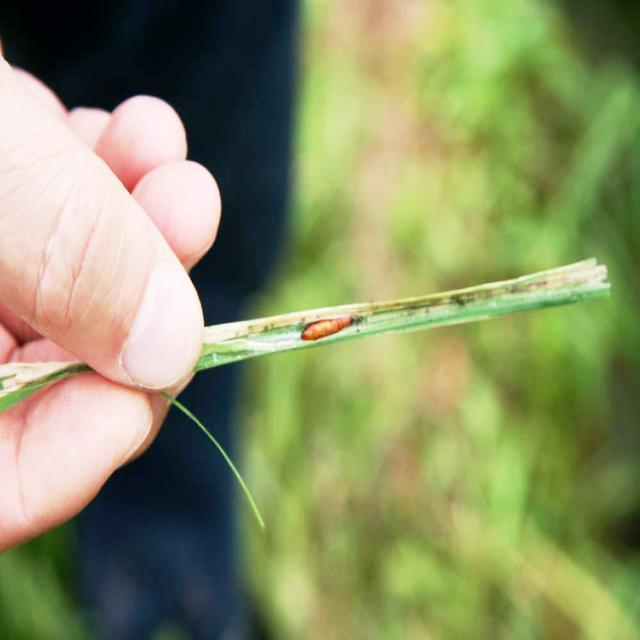leaf-folder: (285, 286, 367, 376)
